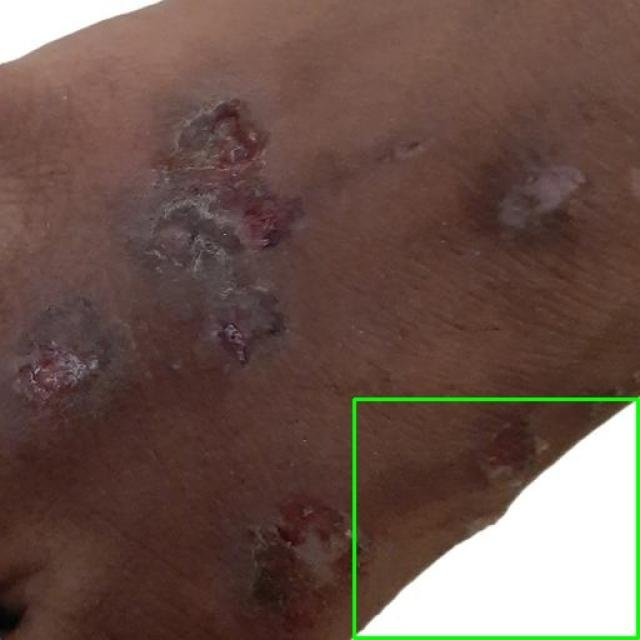Eczema: (355, 400, 639, 639)
